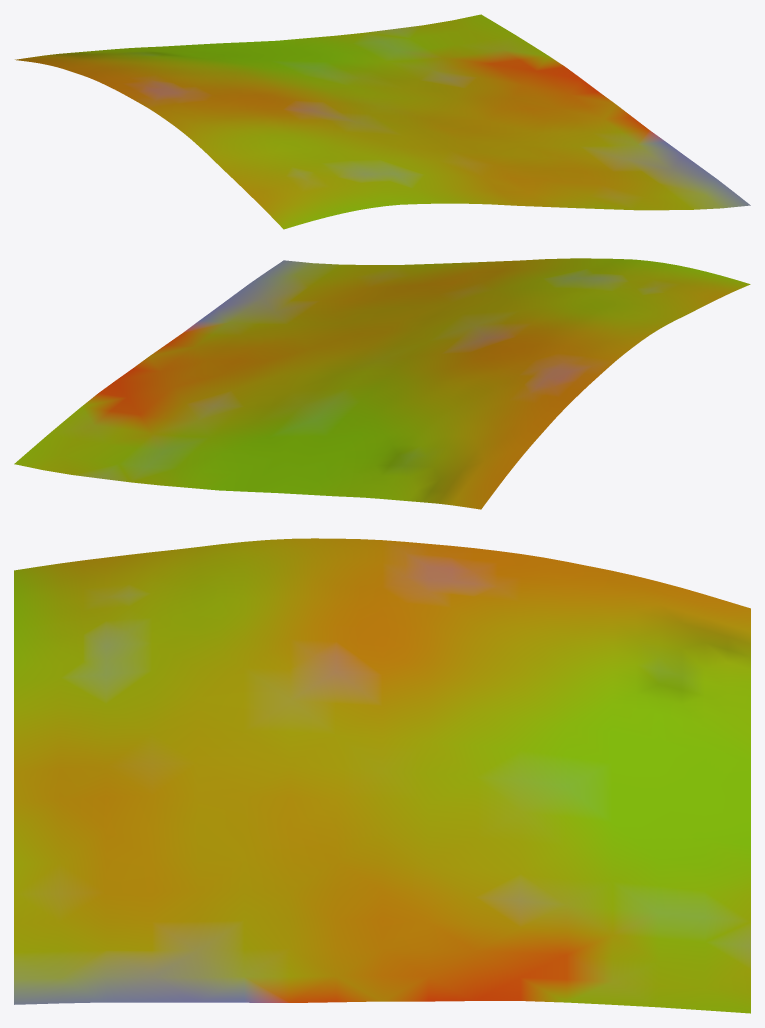
File: SM_BM_BT_Terrain_7_5.glb
3 renders of one model, top to bottom at view 1: azimuth 30°, elevation 25°; view 2: azimuth 150°, elevation 25°; view 3: azimuth 270°, elevation 25°, orthographic. The views are drawn at different scales.
Visible parts, largest first — view 1: SM_BM_BT_Terrain_7_5; view 2: SM_BM_BT_Terrain_7_5; view 3: SM_BM_BT_Terrain_7_5.
Part boxes in pixels (left/top/right/bottom): SM_BM_BT_Terrain_7_5: left=15, top=14, right=750, bottom=229; SM_BM_BT_Terrain_7_5: left=14, top=258, right=750, bottom=509; SM_BM_BT_Terrain_7_5: left=14, top=538, right=750, bottom=1013.
Bounding box in the file's own units: 256 × 62.71 × 256.
